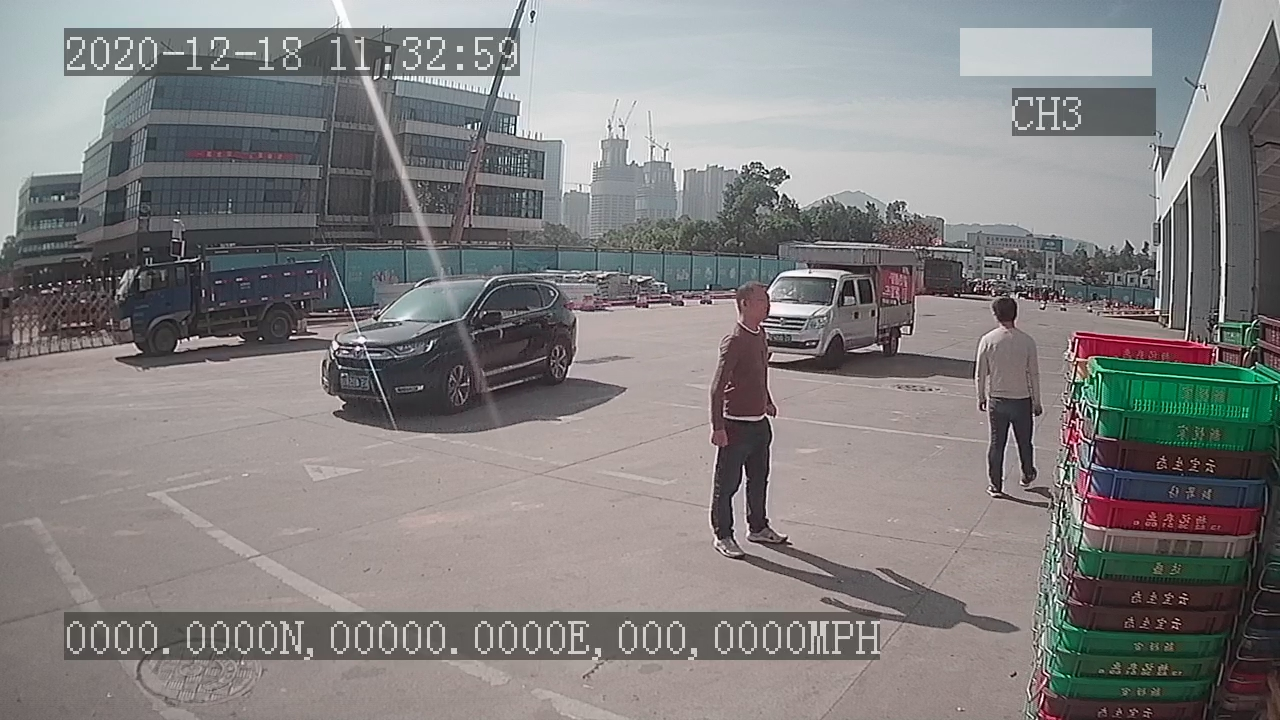person: (971, 292, 1047, 496)
